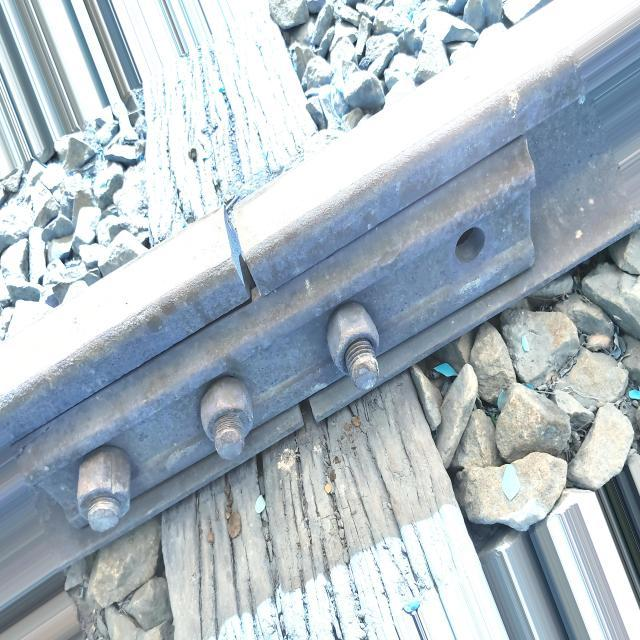Defective Joint: (19, 131, 541, 557)
